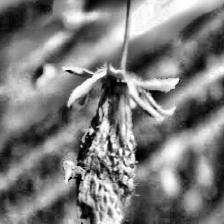Gray Mold: (61, 60, 179, 224)
